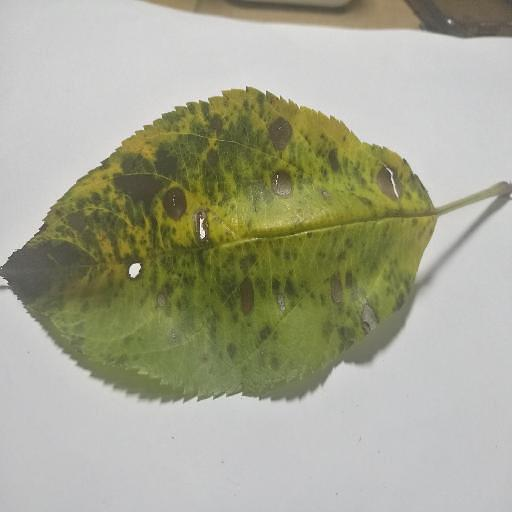Brown_Spot: (331, 274, 375, 339), (372, 167, 404, 210), (117, 168, 164, 193), (119, 255, 148, 286), (277, 167, 300, 203), (237, 278, 259, 303), (198, 213, 216, 243), (270, 124, 290, 149), (165, 188, 183, 215)
